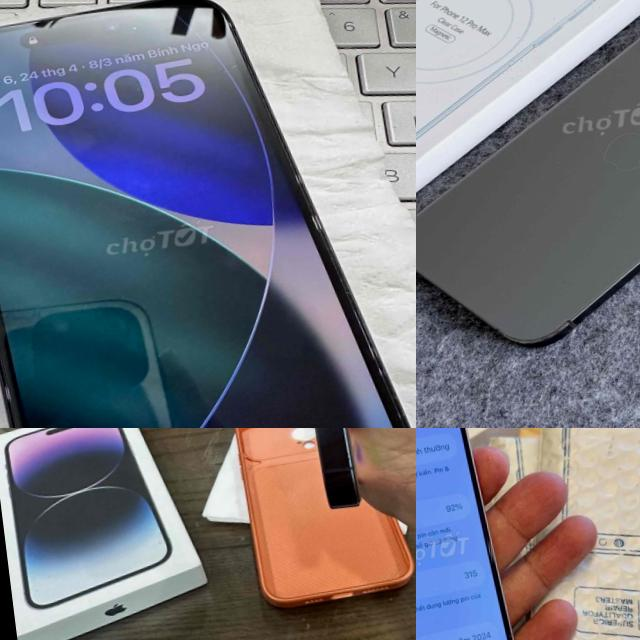scratch: (348, 302, 388, 382), (286, 168, 307, 190), (308, 210, 326, 232), (0, 380, 13, 403)
